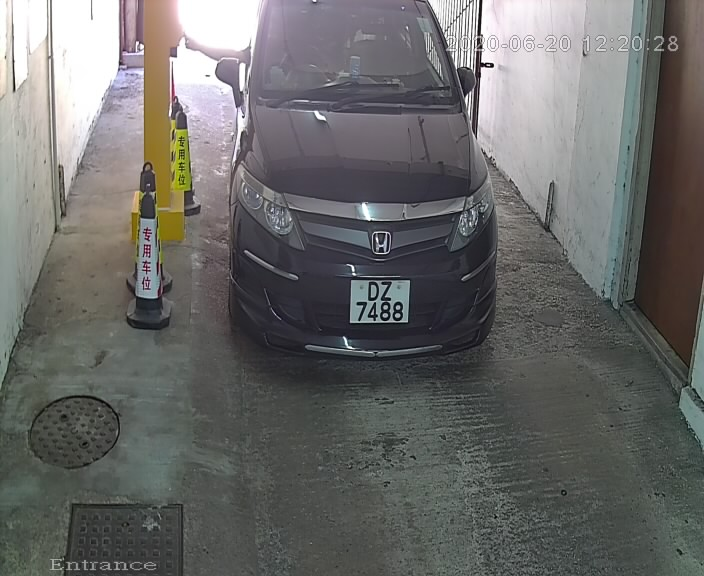privatecar: (220, 3, 517, 396)
